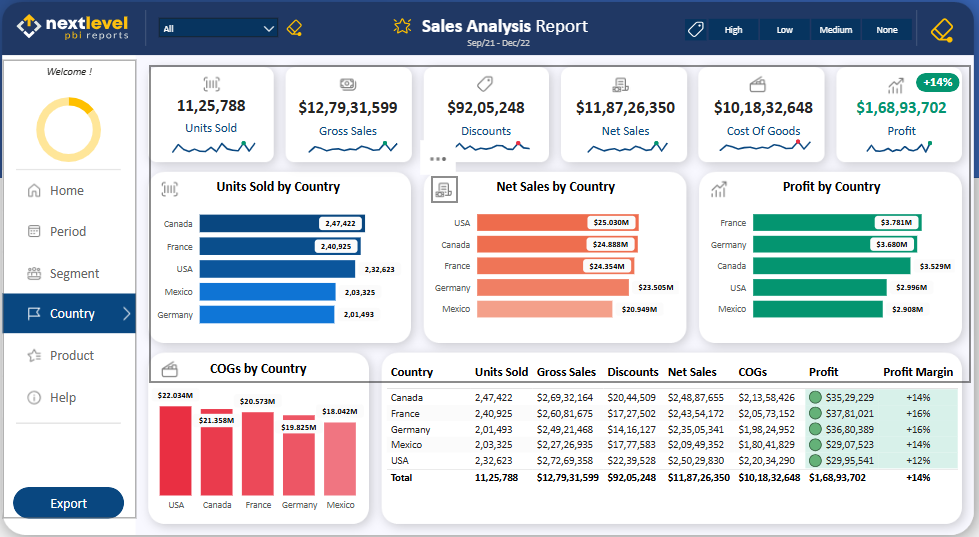

The page's visual inventory and layout, read from the dashboard file:
{"tool":"powerbi","page":{"name":"Home","canvas":[1280,720],"ordinal":0},"visuals":[{"type":"actionButton","title":"Button_Icon_Units Sold","box":[1221,13,32,32],"z":0,"group":"g8"},{"type":"actionButton","title":"Button_Clear Managers","box":[952,26,36,25],"z":0,"group":"g6"},{"type":"textbox","box":[1012,49,240,65],"z":0,"group":"g9"},{"type":"textbox","box":[1011,209,240,80],"z":0,"group":"g10"},{"type":"textbox","title":"Text box_Main Info","box":[80,224,456,69],"z":0,"group":"g4"},{"type":"actionButton","title":"Button_NetSales","box":[1168,289.7,85,30],"z":0,"group":"g7"},{"type":"shape","title":"Shape_COGs","box":[1016,356.3,78,31],"z":0,"group":"g5"},{"type":"textbox","box":[1012,381,240,59],"z":0,"group":"g11"},{"type":"group","id":"g1","title":"Right Pane Net Profits","box":[1004,514,249,135],"z":0,"group":"g3"},{"type":"textbox","box":[1010,547,242,65],"z":0,"group":"g12"},{"type":"actionButton","title":"Button_NetProfit","box":[1168,619,85,30],"z":0,"group":"g1"},{"type":"group","id":"g2","title":"Footer","box":[21,670,1243,41],"z":0},{"type":"actionButton","title":"Button Logo","box":[1119,673,145,38],"z":0,"group":"g2"},{"type":"group","id":"g3","title":"Right Pane","box":[996,13,257,636],"z":500},{"type":"slicer","title":"Slicer_Managers","fields":{"Values":["DIM_MANAGERS.Manager Name"]},"box":[788,17,170,45],"z":1000,"group":"g6"},{"type":"card","fields":{"Values":["*Measures.M_Date Selection"]},"box":[1056,49,96,32],"z":1000,"group":"g9"},{"type":"actionButton","title":"Button_Units Sold","box":[1168,125,85,30],"z":1000,"group":"g8"},{"type":"group","id":"g4","title":"Main Area","box":[73,157,487,136],"z":1000},{"type":"textbox","title":"Text box_Title","box":[145,175,415,70],"z":1000,"group":"g4"},{"type":"actionButton","title":"Button_Icon_Net Sales","box":[1221,180,32,32],"z":1000,"group":"g7"},{"type":"card","fields":{"Values":["*Measures.M_Date Selection"]},"box":[1053,201,96,48],"z":1000,"group":"g10"},{"type":"group","id":"g5","title":"Right Pane COGs","box":[1010,347,243,137.3],"z":1000,"group":"g3"},{"type":"textbox","title":"Text box_COGs","box":[1010,347,100,30],"z":1000,"group":"g5"},{"type":"card","fields":{"Values":["*Measures.M_Date Selection"]},"box":[1056,381,96,29],"z":1000,"group":"g11"},{"type":"shape","title":"Shape_NetProfit","box":[1016,523,55,31],"z":1000,"group":"g1"},{"type":"card","fields":{"Values":["*Measures.M_Date Selection"]},"box":[1054.4,547,96.8,32],"z":1000,"group":"g12"},{"type":"actionButton","title":"Button_web _url","box":[215,670,135,40],"z":1000,"group":"g2"},{"type":"group","id":"g6","title":"Header","box":[46,11,942,54],"z":2000},{"type":"actionButton","title":"Button_Product","box":[491,17,90,40],"z":2000,"group":"g6"},{"type":"shape","title":"Shape_Units Sold","box":[1016,23,56,31],"z":2000,"group":"g8"},{"type":"card","fields":{"Values":["*Measures.M_Units Sold"]},"box":[1006,65,96,24],"z":2000,"group":"g9"},{"type":"actionButton","title":"Button_Main Icon","box":[73,157,80,80],"z":2000,"group":"g4"},{"type":"group","id":"g7","title":"Right Pane Net Sales","box":[996,180,257,139.7],"z":2000,"group":"g3"},{"type":"shape","title":"Shape_Net Sales","box":[1016,189.7,51,31],"z":2000,"group":"g7"},{"type":"card","fields":{"Values":["*Measures.M_Gross Sales"]},"box":[1038,225,100.3,30.6],"z":2000,"group":"g10"},{"type":"actionButton","title":"Button_Icon_COGs","box":[1221,347,32,32],"z":2000,"group":"g5"},{"type":"card","fields":{"Values":["*Measures.M_Cost Of Goods"]},"box":[1042,396.4,96,21.8],"z":2000,"group":"g11"},{"type":"actionButton","title":"Button_Icon_NetProfit","box":[1221,514,32,32],"z":2000,"group":"g1"},{"type":"card","fields":{"Values":["*Measures.M_Profit"]},"box":[1004,563,96.8,24],"z":2000,"group":"g12"},{"type":"shape","title":"Shape_line","box":[191,673,35,35],"z":2000,"group":"g2"},{"type":"group","id":"g8","title":"Right Pane_Units Sold","box":[1006,13,247,142],"z":3000,"group":"g3"},{"type":"textbox","title":"Text box_Units Sold","box":[1010,13,100,30],"z":3000,"group":"g8"},{"type":"actionButton","title":"Button_Country","box":[397,17,90,40],"z":3000,"group":"g6"},{"type":"card","fields":{"Values":["*Measures.M_# of Distinct Segments"]},"box":[1128,65,32,32],"z":3000,"group":"g9"},{"type":"textbox","title":"Text box_Net Sales","box":[1010,180,100,30],"z":3000,"group":"g7"},{"type":"card","fields":{"Values":["*Measures.M_Discounts"]},"box":[996,241,96,32],"z":3000,"group":"g10"},{"type":"actionButton","title":"Button_COGs","box":[1168,454.3,85,30],"z":3000,"group":"g5"},{"type":"textbox","title":"Text box_Net_Profit","box":[1010,514,100,30],"z":3000,"group":"g1"},{"type":"actionButton","title":"Button_tiktok","box":[167,679,22,22],"z":3000,"group":"g2"},{"type":"group","id":"g9","title":"Unit_Sold","box":[1006,49,246,65],"z":3500,"group":"g8"},{"type":"group","id":"g10","title":"Net_Sales","box":[996,201,255,88],"z":3500,"group":"g7"},{"type":"group","id":"g11","title":"COGs","box":[1012,381,240,59],"z":3500,"group":"g5"},{"type":"group","id":"g12","title":"Net_Profit","box":[1004,547,248,65],"z":3500,"group":"g1"},{"type":"actionButton","title":"Button_Segment","box":[303,17,90,40],"z":4000,"group":"g6"},{"type":"card","fields":{"Values":["*Measures.M_# of Distinct Countries"]},"box":[1212,65,24,32],"z":4000,"group":"g9"},{"type":"card","fields":{"Values":["*Measures.M_Net Sales"]},"box":[1068,258,100,30],"z":4000,"group":"g10"},{"type":"card","fields":{"Values":["*Measures.M_Profit Margin Formatted"]},"box":[1004,579,48,32],"z":4000,"group":"g12"},{"type":"actionButton","title":"Button_instagram","box":[108.6,679,22,22],"z":4000,"group":"g2"},{"type":"actionButton","title":"Button_Period","box":[209,17,90,40],"z":5000,"group":"g6"},{"type":"actionButton","title":"Button_linkdin","box":[137.8,679,22,22],"z":5000,"group":"g2"},{"type":"shape","title":"Home_Active","box":[143,34,35,31],"z":6000,"group":"g6"},{"type":"actionButton","title":"Button_twitter","box":[79.4,679,22,22],"z":6000,"group":"g2"},{"type":"actionButton","title":"Button_Home","box":[115,17,90,40],"z":7000,"group":"g6"},{"type":"actionButton","title":"Button_youtube","box":[50.2,679,22,22],"z":7000,"group":"g2"},{"type":"actionButton","title":"Button_Logo","box":[46,11,50,50],"z":8000,"group":"g6"},{"type":"actionButton","title":"Button_facebook","box":[21,679,22,22],"z":8000,"group":"g2"}]}

Visuals, with their boxes on the page's 1280x720 design canvas (x1, y1, x2, y2). These are canvas units, not pixel positions in the 979x537 screenshot, which may show the page scaled, cropped or inside an application window:
"Button_Icon_Units Sold" actionButton: bbox=(1221, 13, 1253, 45)
"Button_Clear Managers" actionButton: bbox=(952, 26, 988, 51)
textbox: bbox=(1012, 49, 1252, 114)
textbox: bbox=(1011, 209, 1251, 289)
"Text box_Main Info" textbox: bbox=(80, 224, 536, 293)
"Button_NetSales" actionButton: bbox=(1168, 290, 1253, 320)
"Shape_COGs" shape: bbox=(1016, 356, 1094, 387)
textbox: bbox=(1012, 381, 1252, 440)
"Right Pane Net Profits" group: bbox=(1004, 514, 1253, 649)
textbox: bbox=(1010, 547, 1252, 612)
"Button_NetProfit" actionButton: bbox=(1168, 619, 1253, 649)
"Footer" group: bbox=(21, 670, 1264, 711)
"Button Logo" actionButton: bbox=(1119, 673, 1264, 711)
"Right Pane" group: bbox=(996, 13, 1253, 649)
"Slicer_Managers" slicer: bbox=(788, 17, 958, 62)
card - *Measures.M_Date Selection: bbox=(1056, 49, 1152, 81)
"Button_Units Sold" actionButton: bbox=(1168, 125, 1253, 155)
"Main Area" group: bbox=(73, 157, 560, 293)
"Text box_Title" textbox: bbox=(145, 175, 560, 245)
"Button_Icon_Net Sales" actionButton: bbox=(1221, 180, 1253, 212)
card - *Measures.M_Date Selection: bbox=(1053, 201, 1149, 249)
"Right Pane COGs" group: bbox=(1010, 347, 1253, 484)
"Text box_COGs" textbox: bbox=(1010, 347, 1110, 377)
card - *Measures.M_Date Selection: bbox=(1056, 381, 1152, 410)
"Shape_NetProfit" shape: bbox=(1016, 523, 1071, 554)
card - *Measures.M_Date Selection: bbox=(1054, 547, 1151, 579)
"Button_web _url" actionButton: bbox=(215, 670, 350, 710)
"Header" group: bbox=(46, 11, 988, 65)
"Button_Product" actionButton: bbox=(491, 17, 581, 57)
"Shape_Units Sold" shape: bbox=(1016, 23, 1072, 54)
card - *Measures.M_Units Sold: bbox=(1006, 65, 1102, 89)
"Button_Main Icon" actionButton: bbox=(73, 157, 153, 237)
"Right Pane Net Sales" group: bbox=(996, 180, 1253, 320)
"Shape_Net Sales" shape: bbox=(1016, 190, 1067, 221)
card - *Measures.M_Gross Sales: bbox=(1038, 225, 1138, 256)
"Button_Icon_COGs" actionButton: bbox=(1221, 347, 1253, 379)
card - *Measures.M_Cost Of Goods: bbox=(1042, 396, 1138, 418)
"Button_Icon_NetProfit" actionButton: bbox=(1221, 514, 1253, 546)
card - *Measures.M_Profit: bbox=(1004, 563, 1101, 587)
"Shape_line" shape: bbox=(191, 673, 226, 708)
"Right Pane_Units Sold" group: bbox=(1006, 13, 1253, 155)
"Text box_Units Sold" textbox: bbox=(1010, 13, 1110, 43)
"Button_Country" actionButton: bbox=(397, 17, 487, 57)
card - *Measures.M_# of Distinct Segments: bbox=(1128, 65, 1160, 97)
"Text box_Net Sales" textbox: bbox=(1010, 180, 1110, 210)
card - *Measures.M_Discounts: bbox=(996, 241, 1092, 273)
"Button_COGs" actionButton: bbox=(1168, 454, 1253, 484)
"Text box_Net_Profit" textbox: bbox=(1010, 514, 1110, 544)
"Button_tiktok" actionButton: bbox=(167, 679, 189, 701)
"Unit_Sold" group: bbox=(1006, 49, 1252, 114)
"Net_Sales" group: bbox=(996, 201, 1251, 289)
"COGs" group: bbox=(1012, 381, 1252, 440)
"Net_Profit" group: bbox=(1004, 547, 1252, 612)
"Button_Segment" actionButton: bbox=(303, 17, 393, 57)
card - *Measures.M_# of Distinct Countries: bbox=(1212, 65, 1236, 97)
card - *Measures.M_Net Sales: bbox=(1068, 258, 1168, 288)
card - *Measures.M_Profit Margin Formatted: bbox=(1004, 579, 1052, 611)
"Button_instagram" actionButton: bbox=(109, 679, 131, 701)
"Button_Period" actionButton: bbox=(209, 17, 299, 57)
"Button_linkdin" actionButton: bbox=(138, 679, 160, 701)
"Home_Active" shape: bbox=(143, 34, 178, 65)
"Button_twitter" actionButton: bbox=(79, 679, 101, 701)
"Button_Home" actionButton: bbox=(115, 17, 205, 57)
"Button_youtube" actionButton: bbox=(50, 679, 72, 701)
"Button_Logo" actionButton: bbox=(46, 11, 96, 61)
"Button_facebook" actionButton: bbox=(21, 679, 43, 701)
